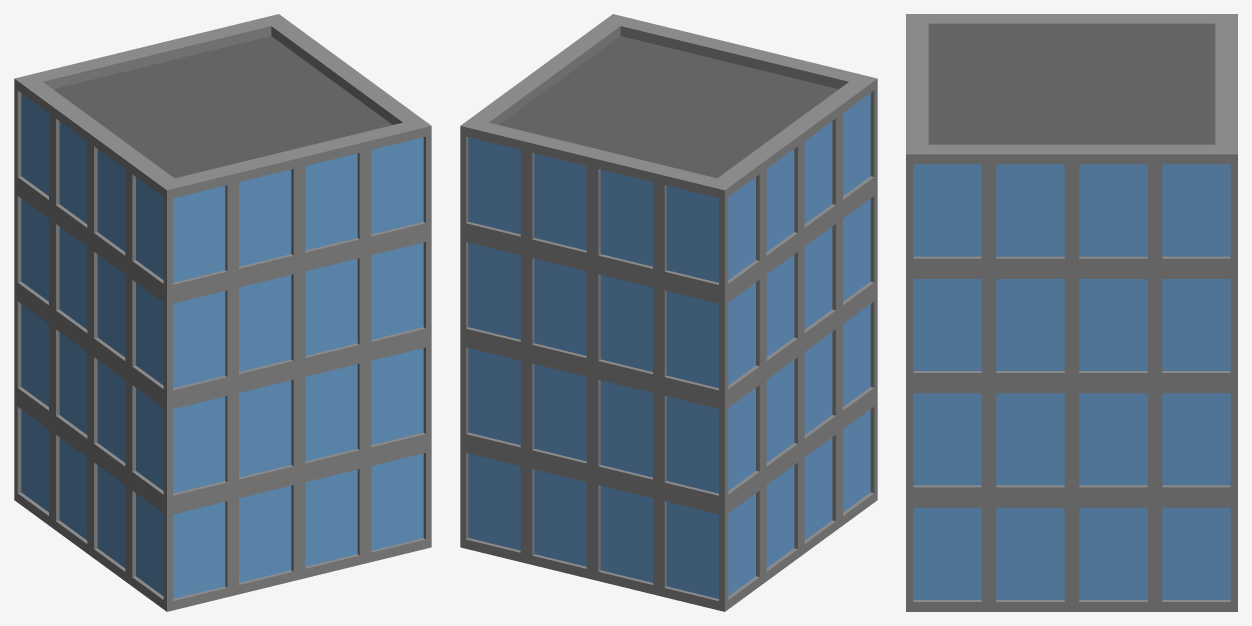
3 renders of one model, left to right at view 1: azimuth 30°, elevation 25°; view 2: azimuth 150°, elevation 25°; view 3: azimuth 270°, elevation 25°, orthographic. The views are drawn at different scales.
Parts seen in each view (by area): view 1: Cube; view 2: Cube; view 3: Cube.
Part boxes in pixels (x1,y1,x2,y2): Cube: (14, 14, 431, 611); Cube: (460, 14, 877, 611); Cube: (906, 14, 1237, 611).
Size of the model in its own units: 659 by 1003 by 659.
